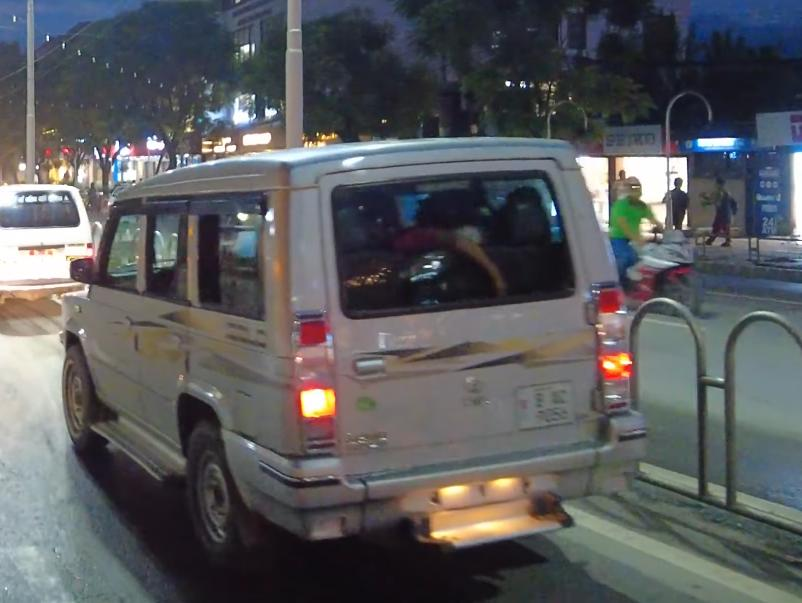SUV: (48, 123, 657, 585)
